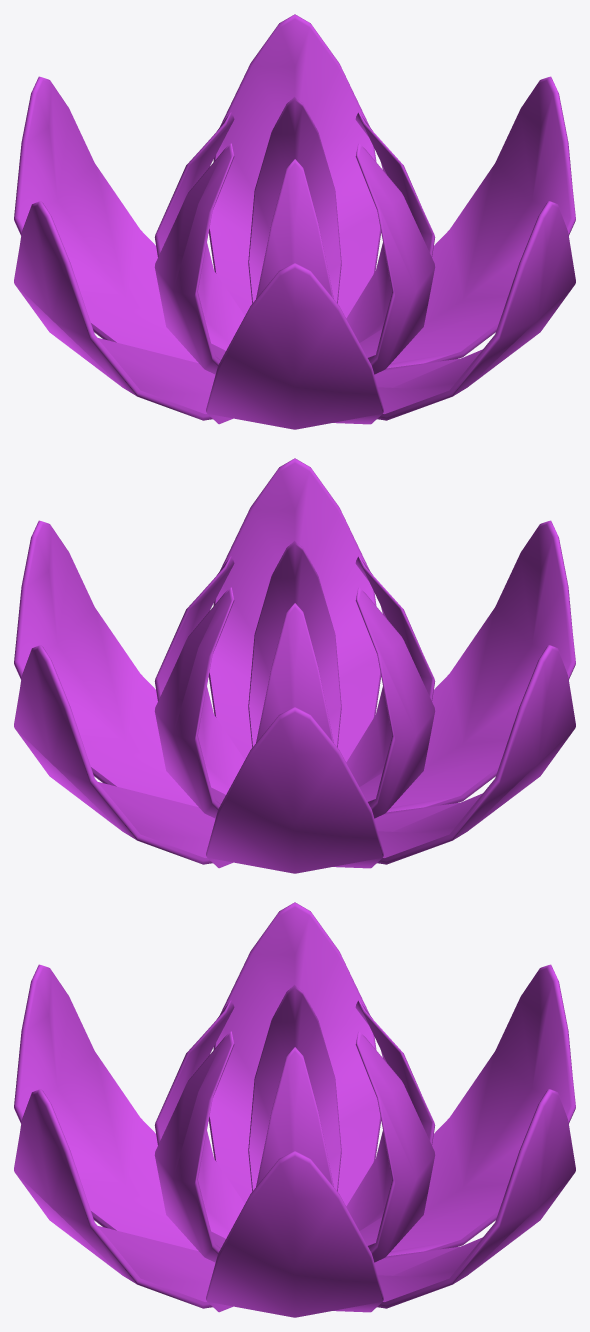
Rendered from lotus.fbx.
3 views of the same model, one above another, from view 1: azimuth 30°, elevation 25°; view 2: azimuth 150°, elevation 25°; view 3: azimuth 270°, elevation 25° (orthographic).
Parts seen in each view (by area): view 1: lotus2; view 2: lotus2; view 3: lotus2.
Boxes of the visible parts, bbox=[...] form: lotus2: bbox=[14, 14, 575, 429]; lotus2: bbox=[14, 458, 575, 873]; lotus2: bbox=[14, 902, 575, 1317].
Size of the model in its own units: 0.2484 by 0.1192 by 0.2347.
